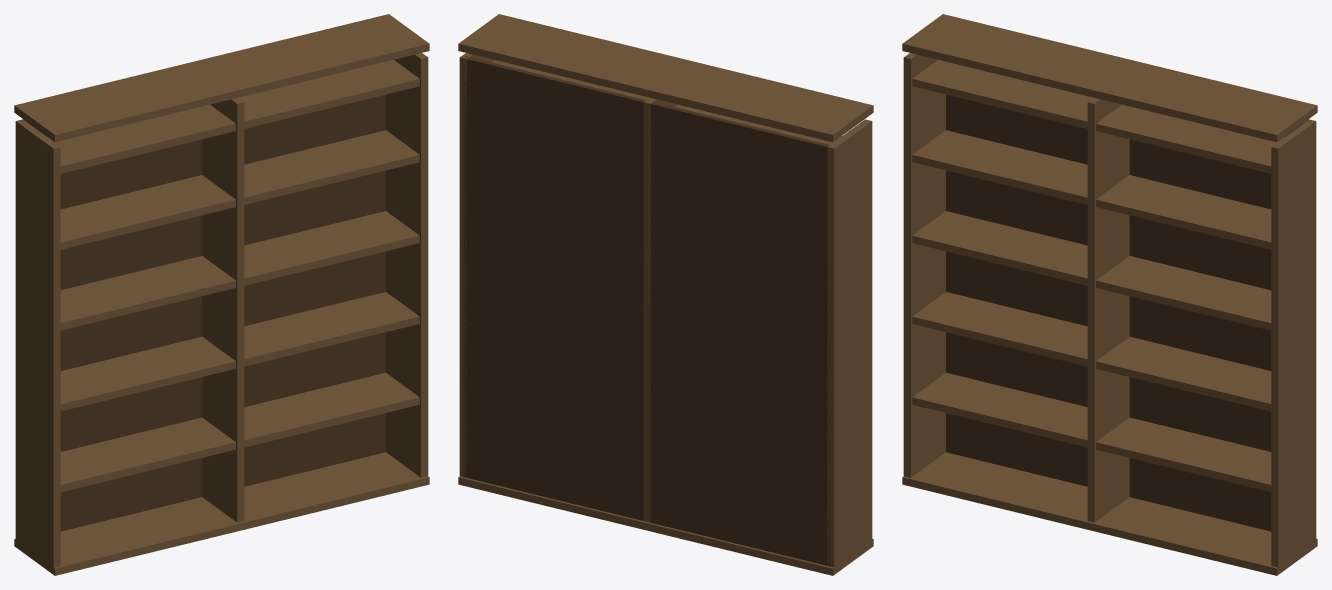
Rendered from bookshelf.glb.
3 views of the same model, side by side, from view 1: azimuth 30°, elevation 25°; view 2: azimuth 150°, elevation 25°; view 3: azimuth 330°, elevation 25° (orthographic).
Visible parts, largest first — view 1: bookshelf; view 2: bookshelf; view 3: bookshelf.
Part boxes in pixels (x1,y1,x2,y2): bookshelf: (14, 14, 429, 575); bookshelf: (458, 14, 873, 575); bookshelf: (902, 14, 1317, 575).
Size of the model in its own units: 1.6 by 1.8 by 0.3.
